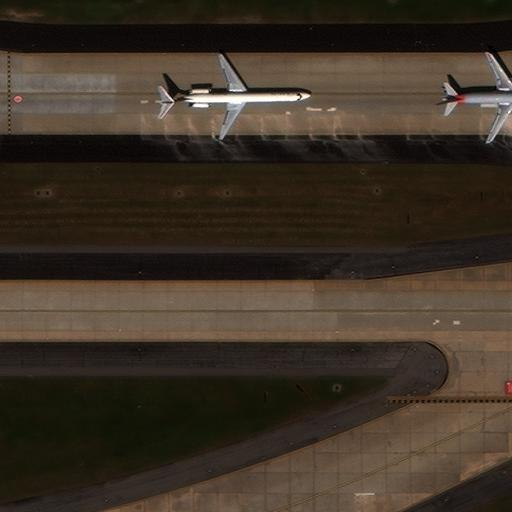Medium Civil Transport: (152, 52, 313, 140), (434, 49, 511, 144)
